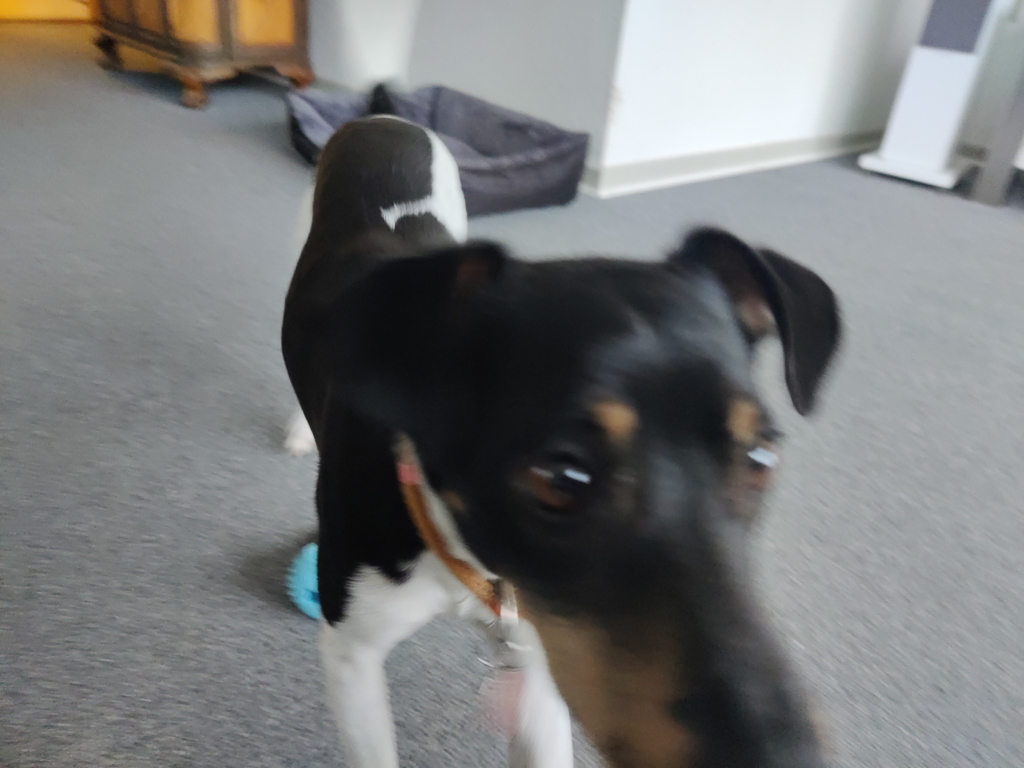Dog: (258, 0, 864, 768)
